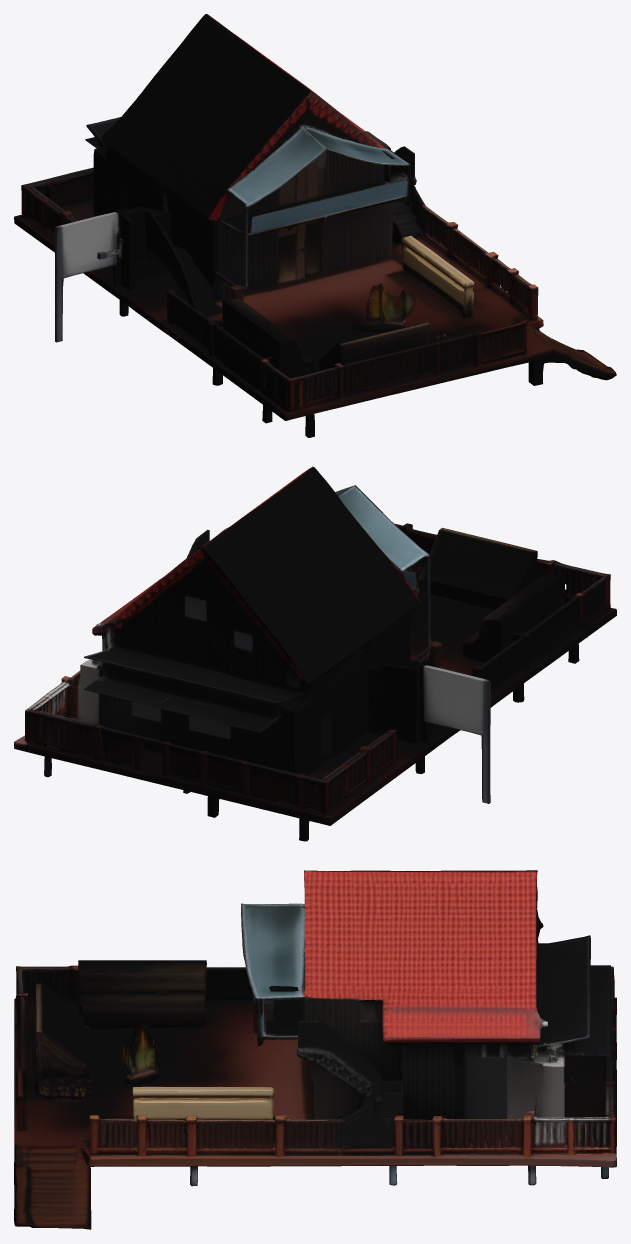
Rendered from commercial-complex.glb.
The picture shows the model from 3 angles, top to bottom: view 1: azimuth 30°, elevation 25°; view 2: azimuth 150°, elevation 25°; view 3: azimuth 270°, elevation 25°; orthographic projection. The views are drawn at different scales.
Visible parts, largest first — view 1: world; view 2: world; view 3: world.
Part boxes in pixels (x1,y1,x2,y2): world: (14,14,616,437); world: (14,466,616,841); world: (14,870,616,1229).
Bounding box in the file's own units: 0.8313 × 0.4823 × 1.
Materials: 1 (1 with a texture image).
